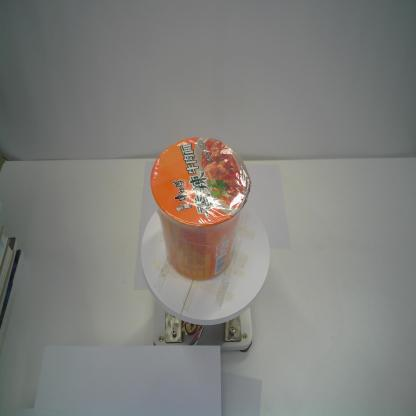Instant Noodles: (149, 135, 251, 283)
